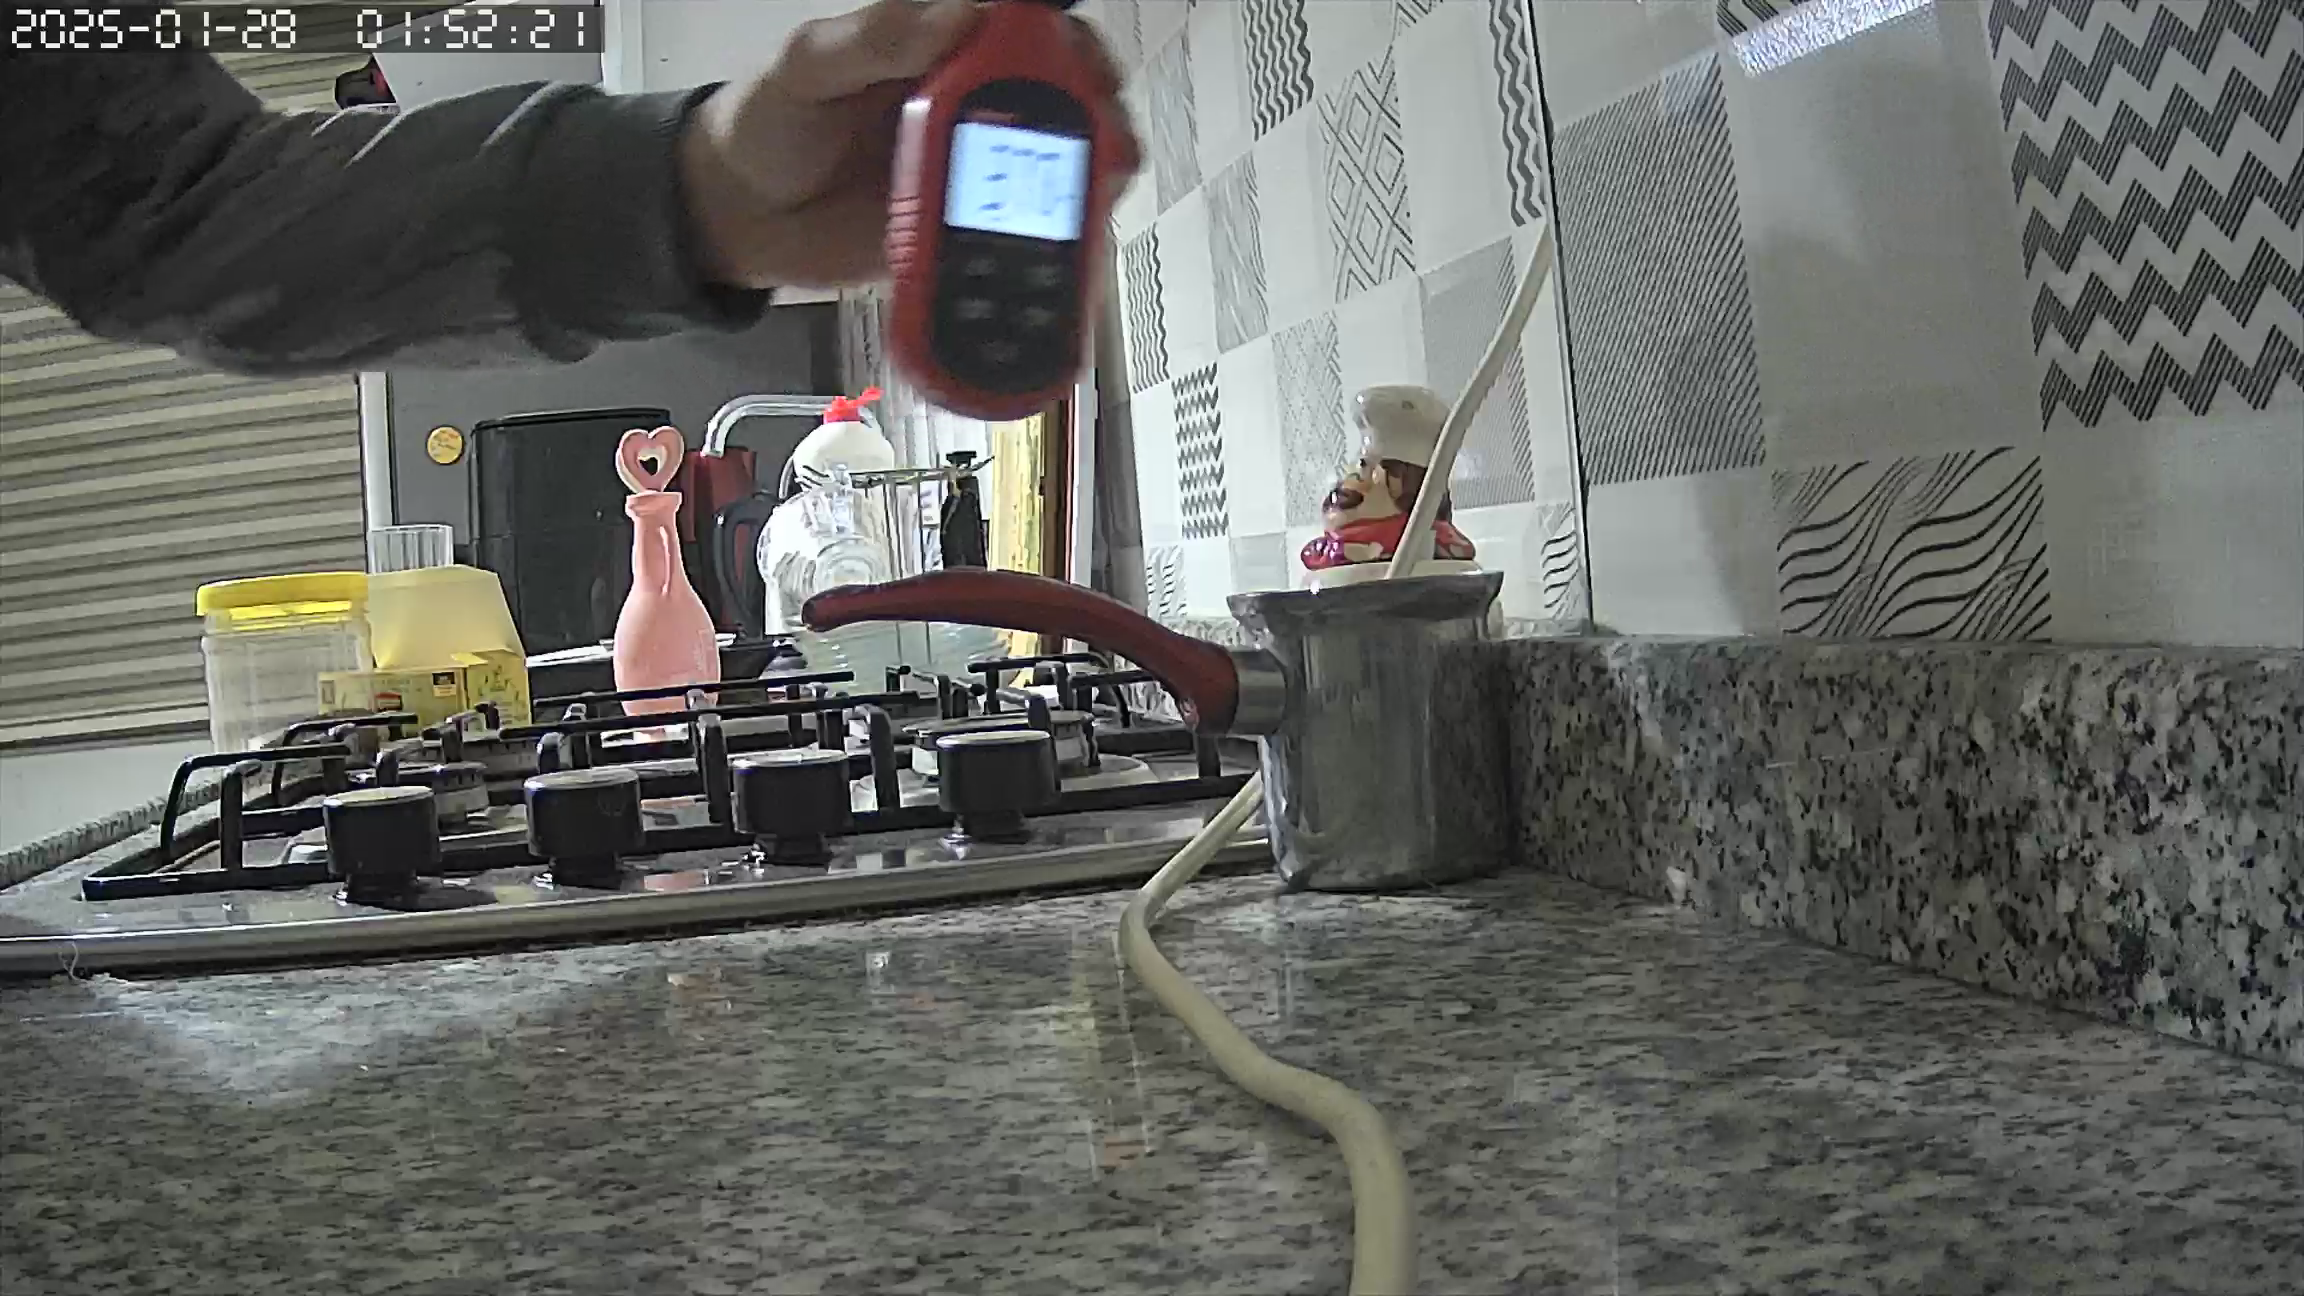screen: (945, 120, 1092, 242)
